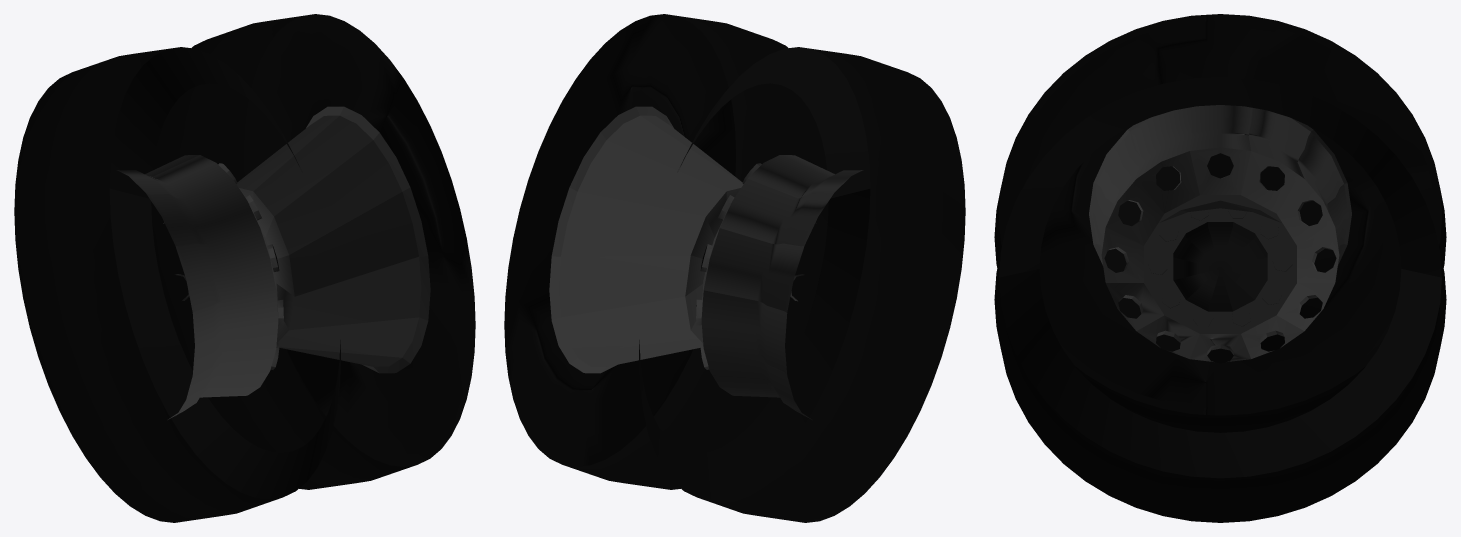
The model's file is Wheel_R_Semi.glb.
3 views of the same model, side by side, from view 1: azimuth 30°, elevation 25°; view 2: azimuth 150°, elevation 25°; view 3: azimuth 270°, elevation 25° (orthographic). The views are drawn at different scales.
Parts seen in each view (by area): view 1: Wheel_Semi_R; view 2: Wheel_Semi_R; view 3: Wheel_Semi_R.
Boxes of the visible parts, box(x1,y1,x2,y2) form: Wheel_Semi_R: box(14, 14, 475, 522); Wheel_Semi_R: box(504, 14, 965, 522); Wheel_Semi_R: box(994, 14, 1446, 522).
Bounding box in the file's own units: 0.647 × 1.02 × 1.02.
Materials: 2 (2 with a texture image).
